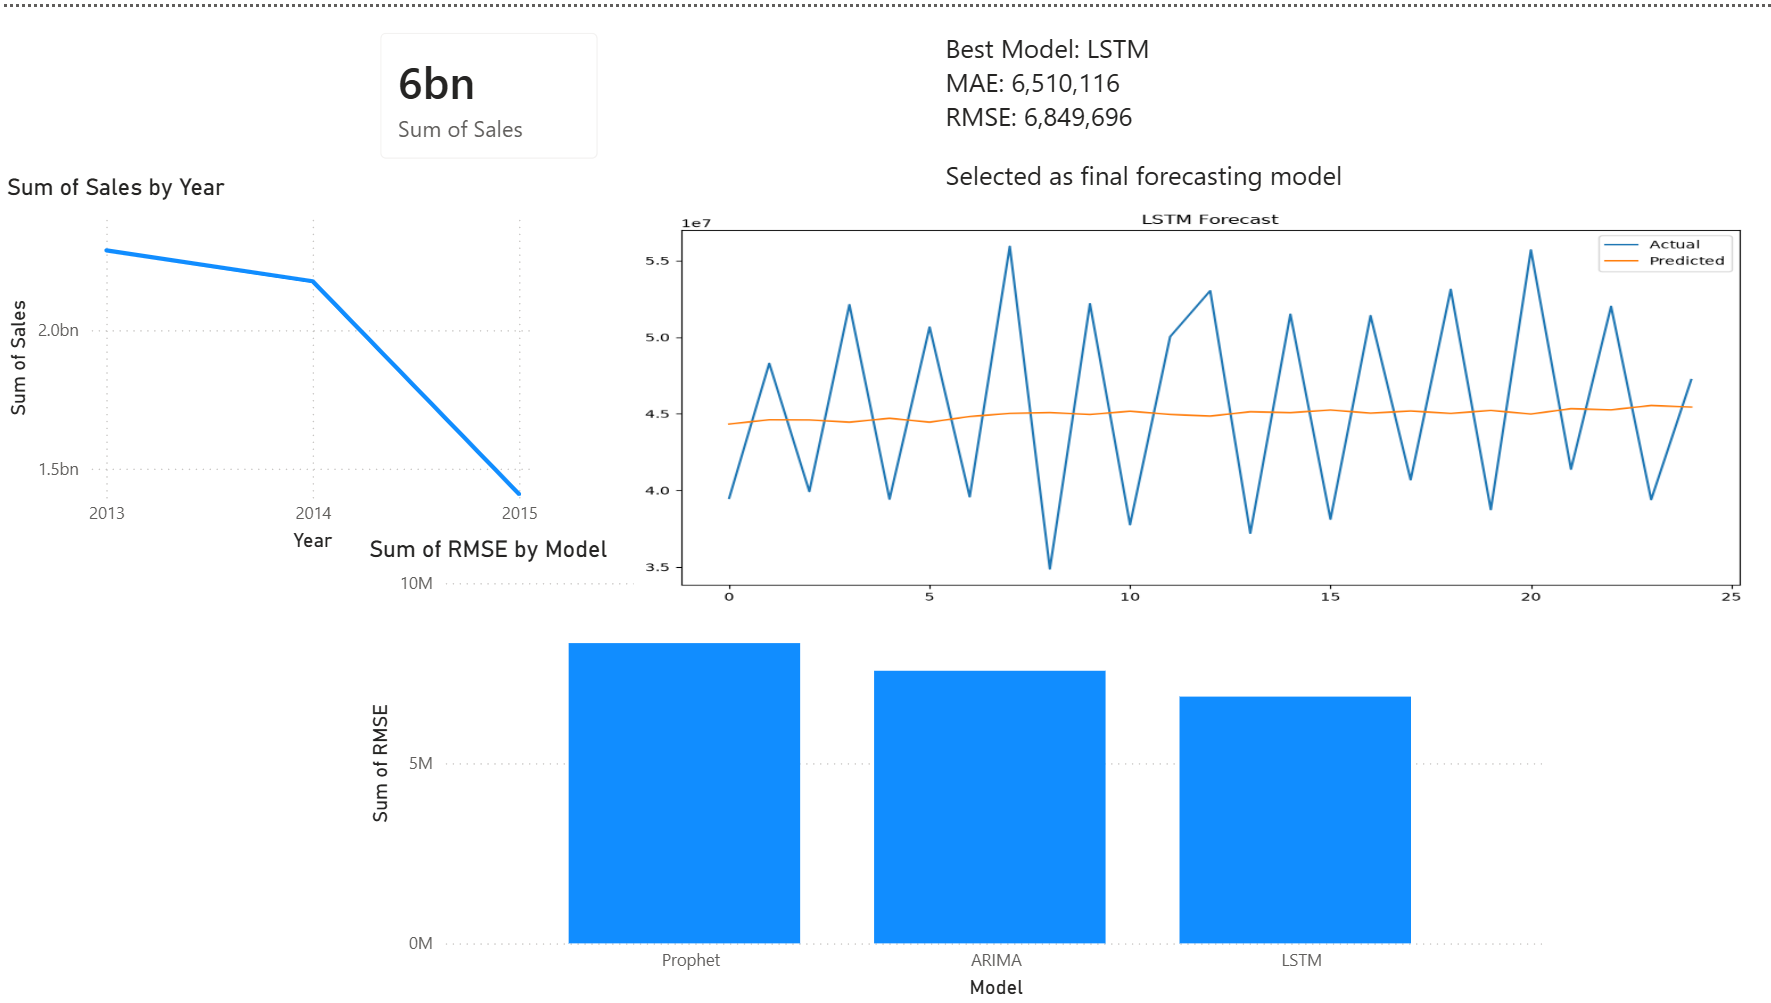

The page's visual inventory and layout, read from the dashboard file:
{"tool":"powerbi","page":{"name":"Sales Forecast Dashboard","canvas":[1280,720],"ordinal":0},"visuals":[{"type":"cardVisual","fields":{"Data":["Sum(weekly_sales.Sales)"]},"box":[10,6,192,126],"z":0},{"type":"lineChart","fields":{"Category":["weekly_sales.Date.Variation.Date Hierarchy.Year","weekly_sales.Date.Variation.Date Hierarchy.Quarter","weekly_sales.Date.Variation.Date Hierarchy.Month","weekly_sales.Date.Variation.Date Hierarchy.Day"],"Y":["Sum(weekly_sales.Sales)"]},"box":[0,120.3,392.5,277.7],"z":2000},{"type":"clusteredColumnChart","fields":{"Category":["model_comparison.Model"],"Y":["Sum(model_comparison.RMSE)"]},"box":[261,381.2,859,338.8],"z":3000},{"type":"textbox","box":[677.6,11.1,355.4,137],"z":4000},{"type":"image","box":[572,166.6,586.8,201.8],"z":5000}]}

Visuals, with their boxes in screenshot pixels (x1, y1, x2, y2), scaled from the page's 1280x720 canvas onto the 1771x1003 screenshot:
cardVisual - Sum(weekly_sales.Sales): [14,8,279,184]
lineChart - weekly_sales.Date.Variation.Date Hierarchy.Year x weekly_sales.Date.Variation.Date Hierarchy.Quarter: [0,168,543,554]
clusteredColumnChart - model_comparison.Model x Sum(model_comparison.RMSE): [361,531,1550,1002]
textbox: [938,15,1429,206]
image: [791,232,1603,513]
